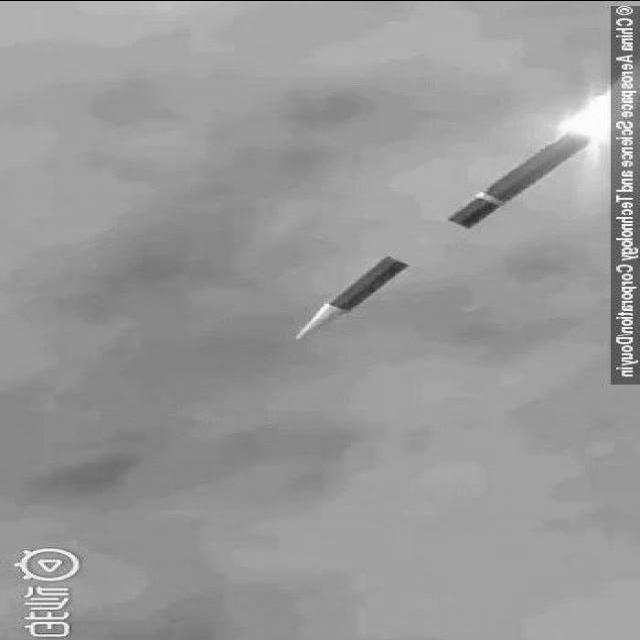missile: (287, 121, 605, 349)
